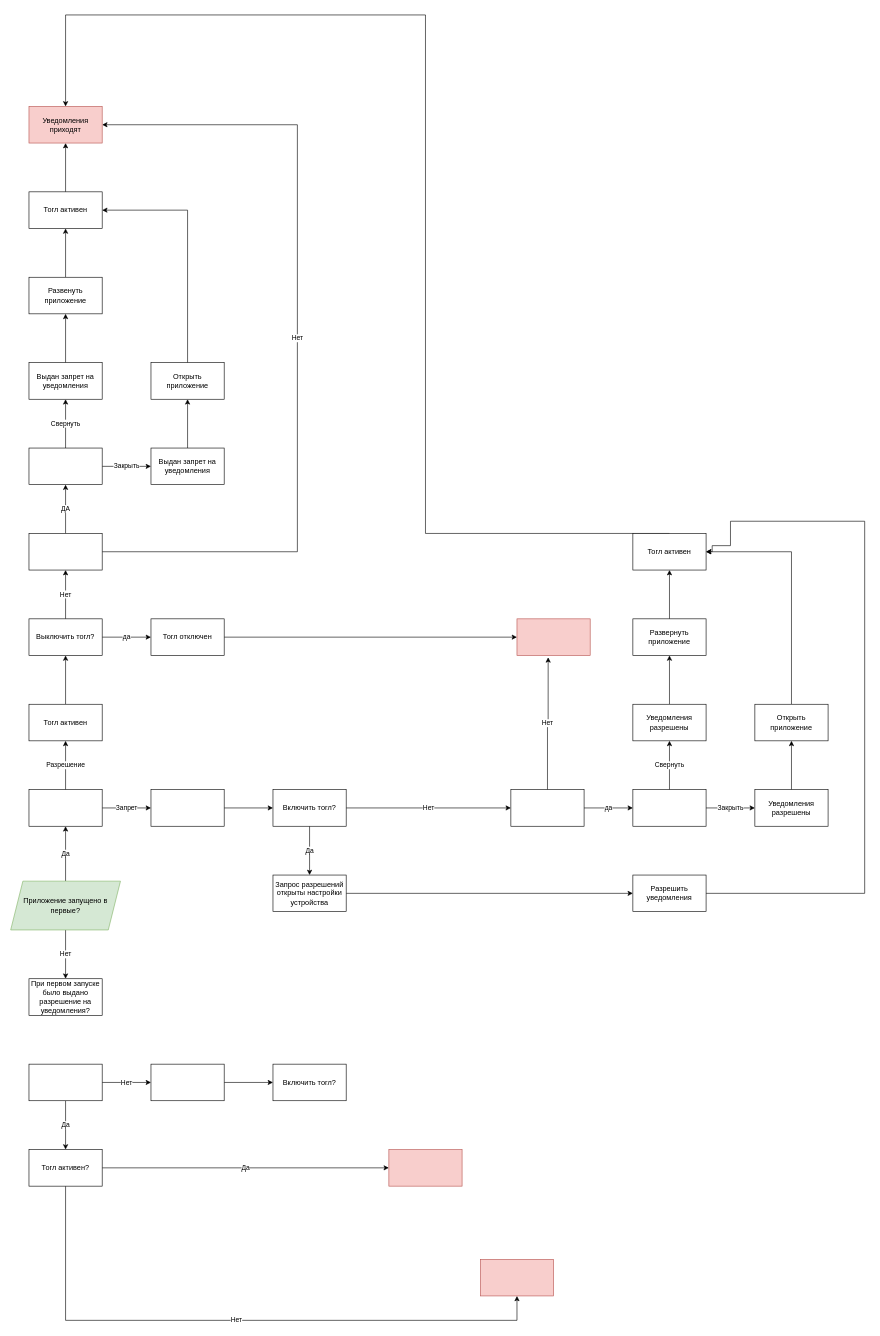
The diagram is 880 pixels wide and 1336 high, and some of its shapes have lost their labels. The shapes that lost their labels are listed below. From the top down, each one's box as (x1, y1, x2, y2) in pixels, then its label:
(28, 447, 102, 485): Свернуть для этого приложение или закрыть?
(28, 533, 102, 570): Выдать запрет на уведомления?
(516, 618, 590, 655): Уведомления не приходят
(28, 789, 102, 826): Запрос разрешений на отправку уведомлений
(150, 789, 224, 826): Тогл не активен
(510, 789, 584, 826): Разрешить уведомления ?
(632, 789, 706, 826): Свернуть или закрыть приложение?
(28, 1064, 102, 1101): В настройках устройства уведомления разрешены?
(150, 1064, 224, 1101): Тогл выключен
(388, 1149, 462, 1186): Уведомление приходит
(480, 1259, 554, 1296): Уведомление не приходит
